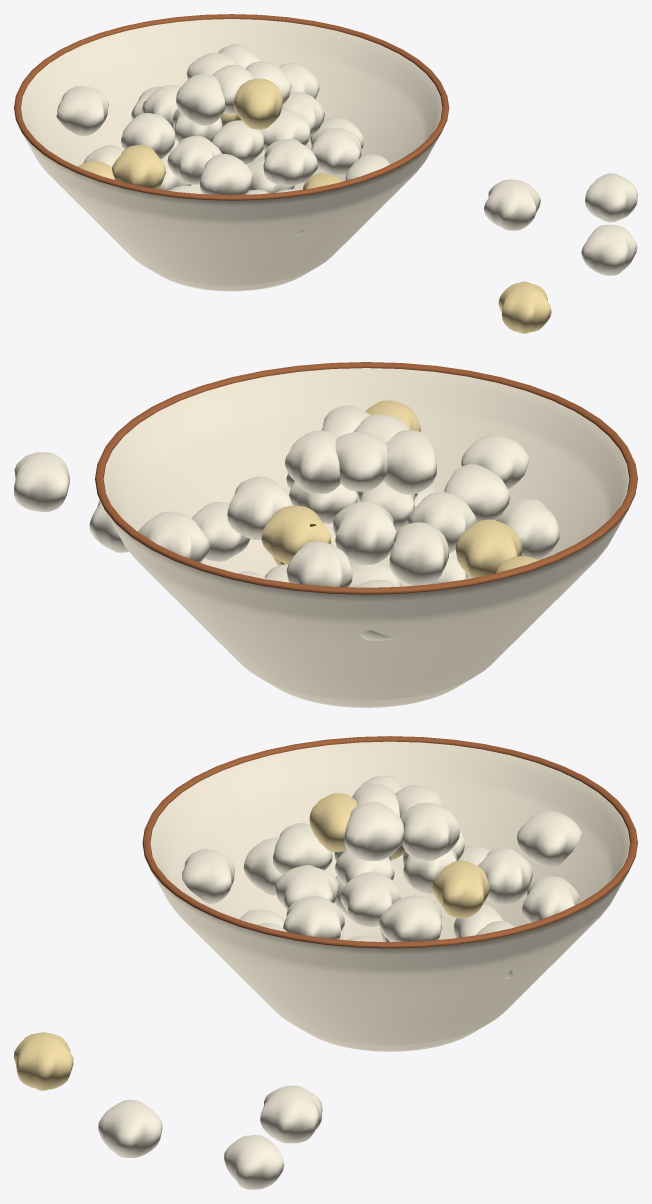
Rendered from room01-popcorn-bowl-v1.glb.
3 views of the same model, one above another, from view 1: azimuth 30°, elevation 25°; view 2: azimuth 150°, elevation 25°; view 3: azimuth 270°, elevation 25° (orthographic). The views are drawn at different scales.
Visible parts, largest first — view 1: bowl, popcorn, butter, rim; view 2: bowl, popcorn, rim, butter; view 3: bowl, popcorn, rim, butter.
Part boxes in pixels (x1,y1,x2,y2): bowl: [17, 19, 447, 291]; popcorn: [56, 44, 637, 275]; butter: [77, 78, 551, 333]; rim: [14, 14, 449, 200]; bowl: [97, 368, 635, 707]; popcorn: [14, 405, 559, 640]; rim: [95, 362, 637, 594]; butter: [261, 400, 538, 578]; bowl: [144, 741, 635, 1051]; popcorn: [98, 775, 581, 1189]; rim: [142, 736, 637, 948]; butter: [14, 793, 489, 1090].
Bounding box in the file's own units: 0.2823 × 0.0982 × 0.2521.
